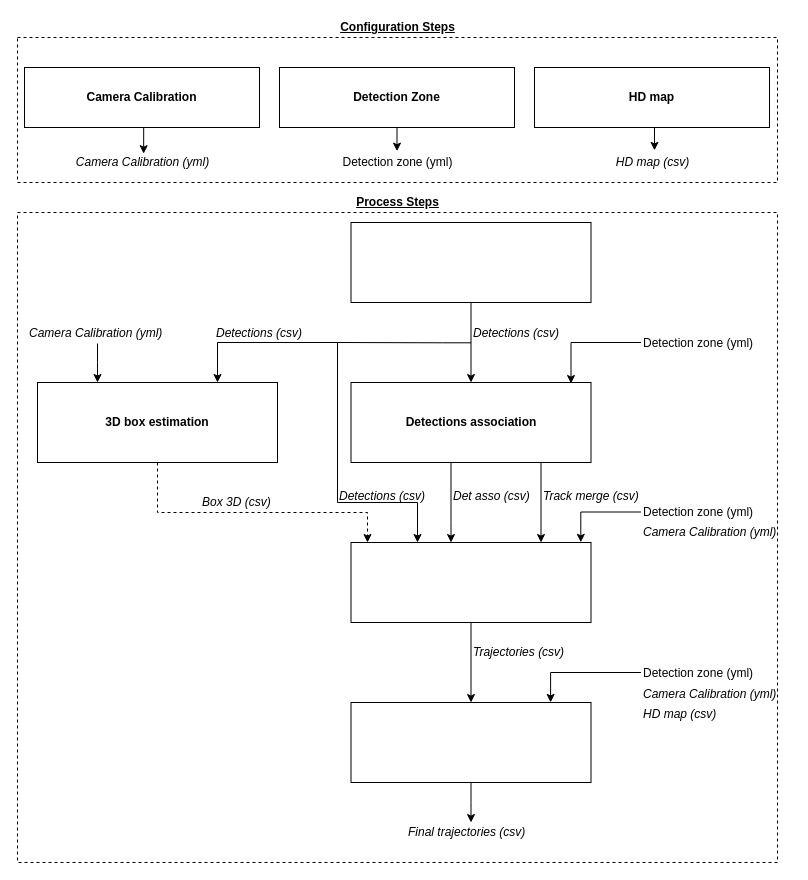
Some shapes in this 808 by 880 pixel diagram are drawn without their labels. The shapes that lost their labels are listed below. From the top down, each one's centre as x and y in pixels, then its label:
At [470,262]: "Object Detection".
At [470,582]: "Track Processing - Smoothing".
At [470,742]: "Manual Inspection".
